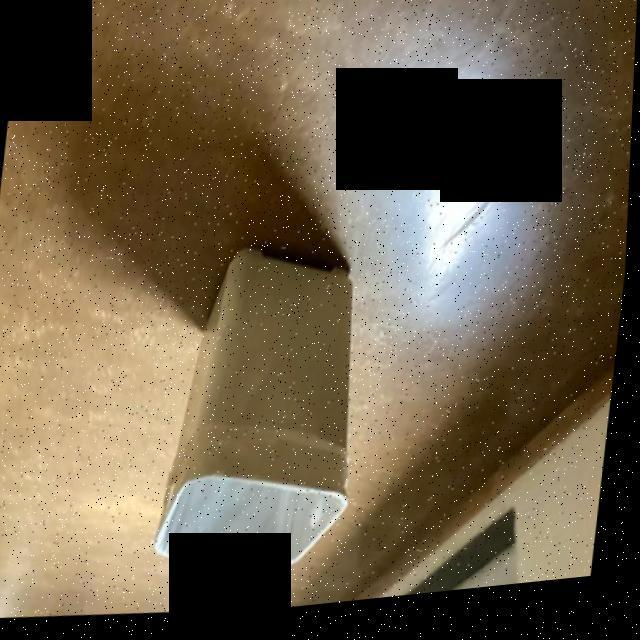bin: (140, 206, 405, 614)
